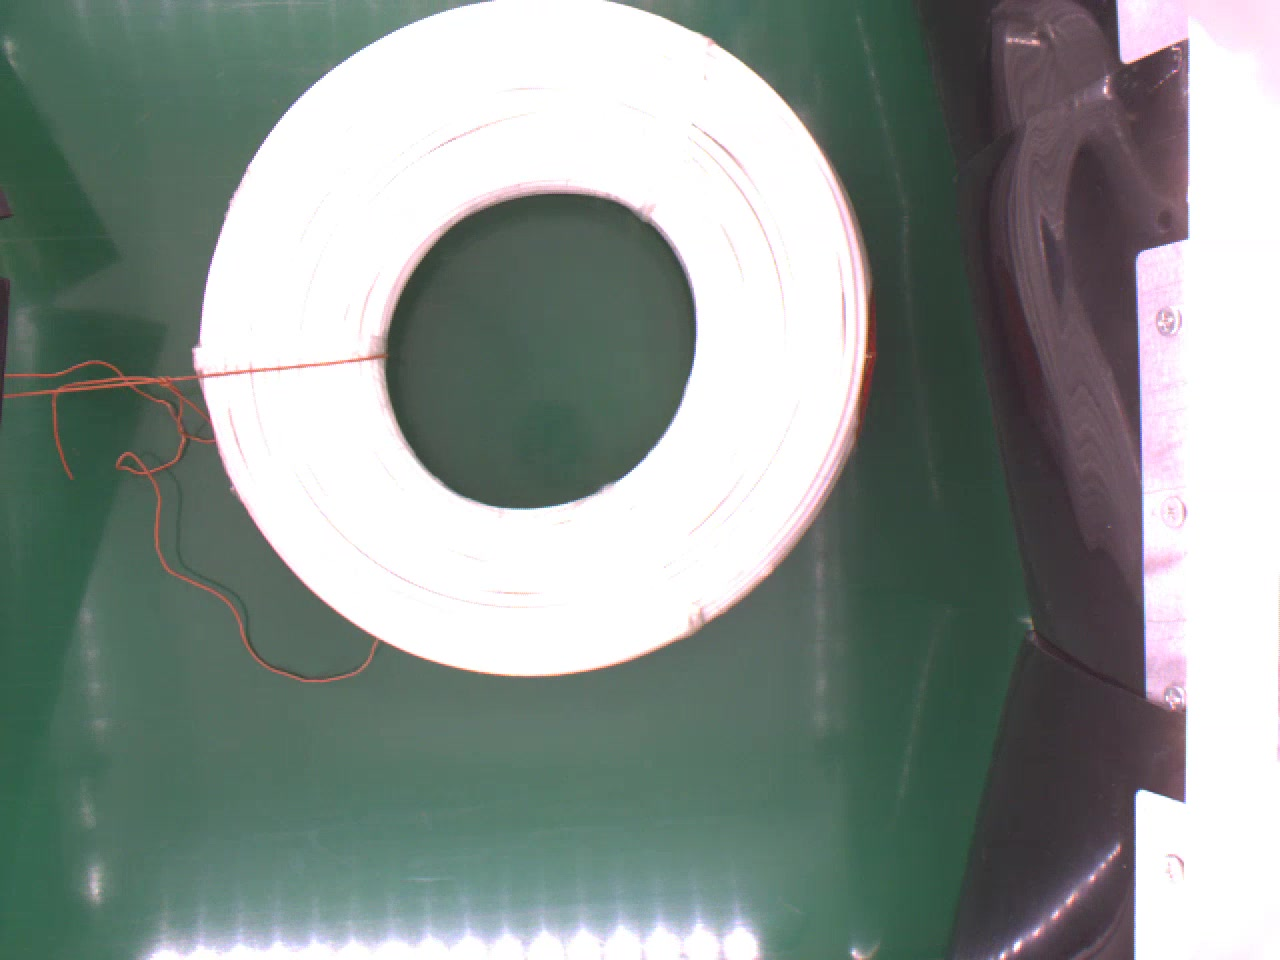white: (184, 0, 877, 673)
